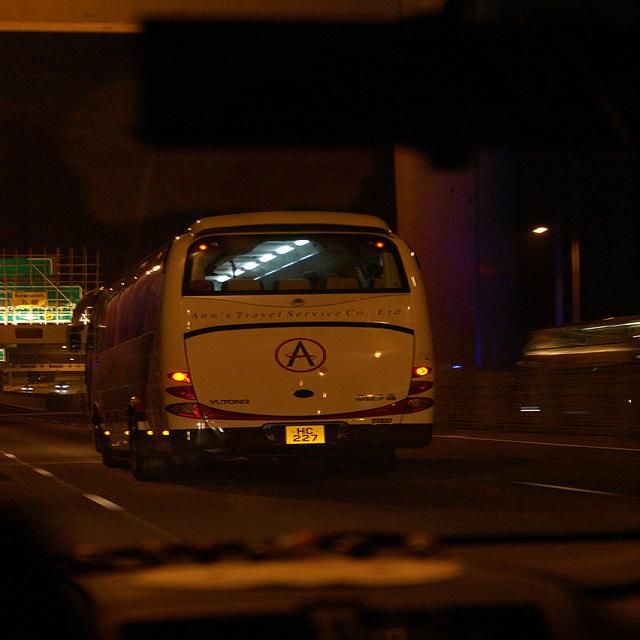Bus: (58, 197, 453, 468), (531, 319, 640, 441)
